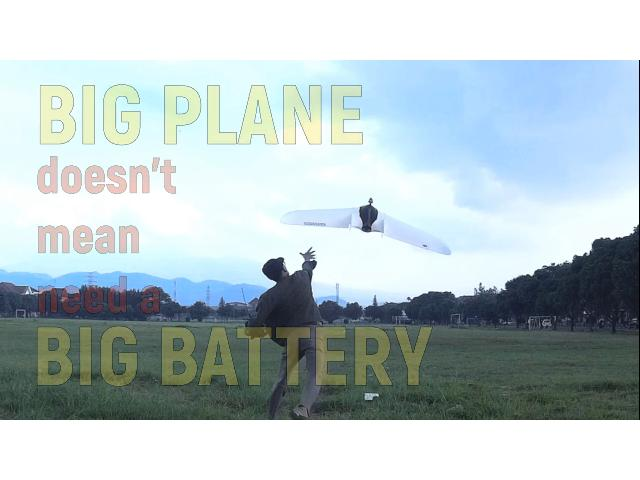Anti-Drone: (276, 185, 456, 265)
